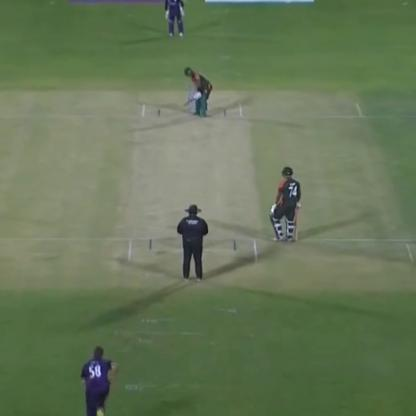bat: (178, 88, 199, 116)
pitch: (122, 95, 260, 278)
